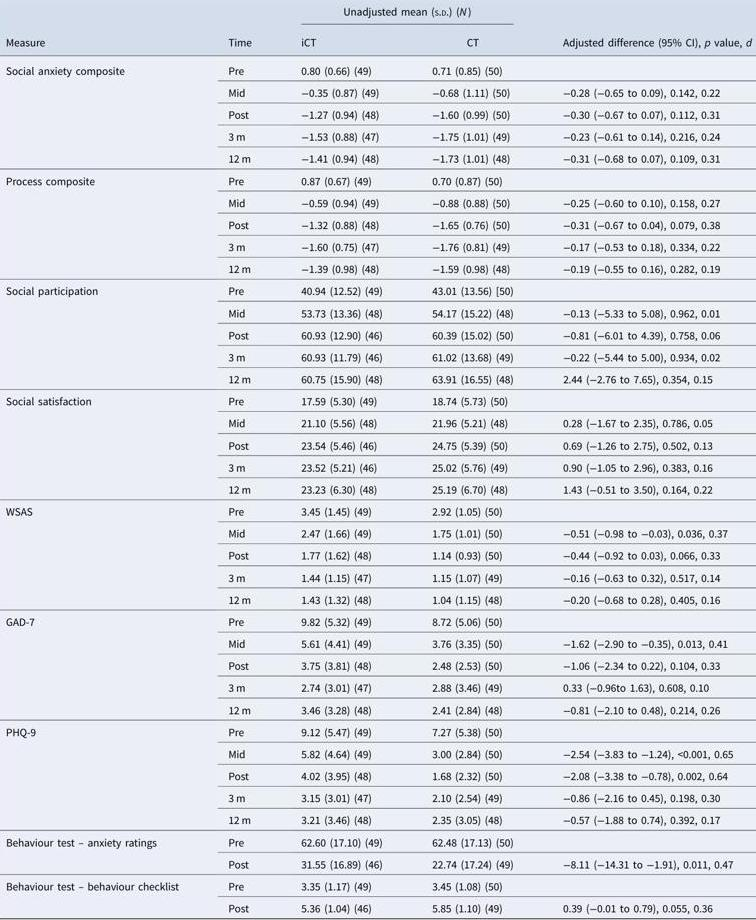table: (5, 5, 751, 915)
table column: (537, 5, 751, 915), (5, 5, 203, 915), (275, 5, 406, 915), (406, 5, 537, 915), (203, 5, 275, 915)
table column header: (5, 5, 751, 56)
table row: (5, 27, 751, 56), (5, 56, 751, 81), (5, 147, 751, 170), (5, 257, 751, 280), (5, 301, 751, 324), (5, 411, 751, 434), (5, 588, 751, 611), (5, 698, 751, 721), (5, 786, 751, 809), (5, 852, 751, 875), (5, 5, 751, 27), (5, 81, 751, 103), (5, 103, 751, 125), (5, 125, 751, 147), (5, 191, 751, 213), (5, 213, 751, 235), (5, 235, 751, 257), (5, 324, 751, 346), (5, 346, 751, 368), (5, 368, 751, 390), (5, 434, 751, 456), (5, 456, 751, 478), (5, 478, 751, 500), (5, 500, 751, 522), (5, 522, 751, 544), (5, 544, 751, 566), (5, 566, 751, 588), (5, 632, 751, 654), (5, 654, 751, 676), (5, 676, 751, 698), (5, 742, 751, 764), (5, 764, 751, 786), (5, 809, 751, 831), (5, 170, 751, 191), (5, 280, 751, 301), (5, 390, 751, 411), (5, 611, 751, 632), (5, 721, 751, 742), (5, 831, 751, 852), (5, 875, 751, 896), (5, 896, 751, 915)
table spanning cell: (5, 56, 203, 170), (5, 500, 203, 611), (5, 170, 203, 280), (5, 280, 203, 390), (5, 390, 203, 500), (5, 611, 203, 721), (5, 721, 203, 831), (537, 5, 751, 56), (5, 5, 203, 56), (5, 831, 203, 875), (5, 875, 203, 915), (275, 5, 537, 27), (203, 5, 275, 56)
